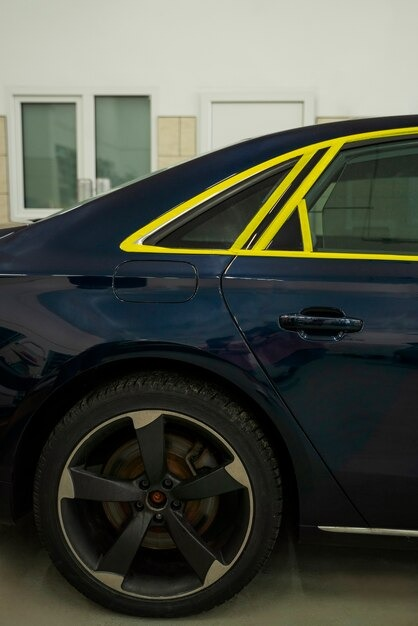car: (6, 109, 418, 606)
